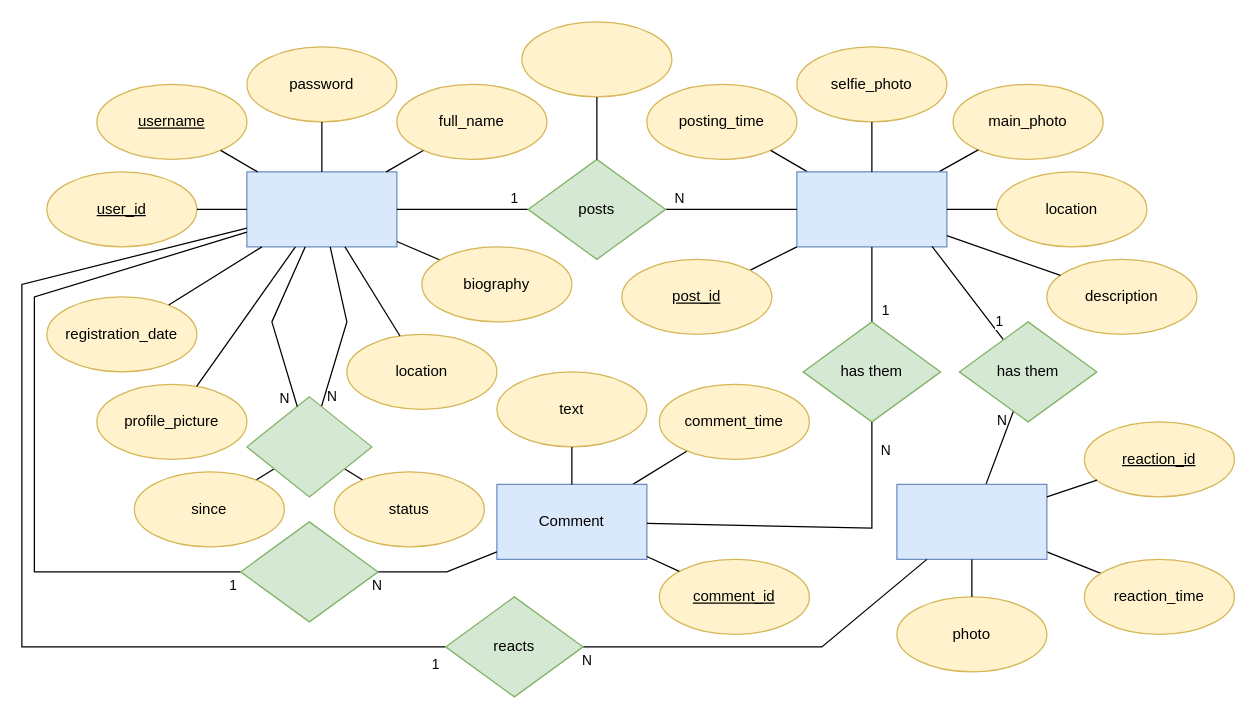
Image size: 1256x719. Some labels were removed from this diagram. Each missing label, with the centre of its shape:
"comments" belongs at [308,571].
"friends" belongs at [309,446].
"is_on_time" belongs at [596,59].
"Post" belongs at [871,209].
"Reaction" belongs at [971,521].
"User" belongs at [321,209].
